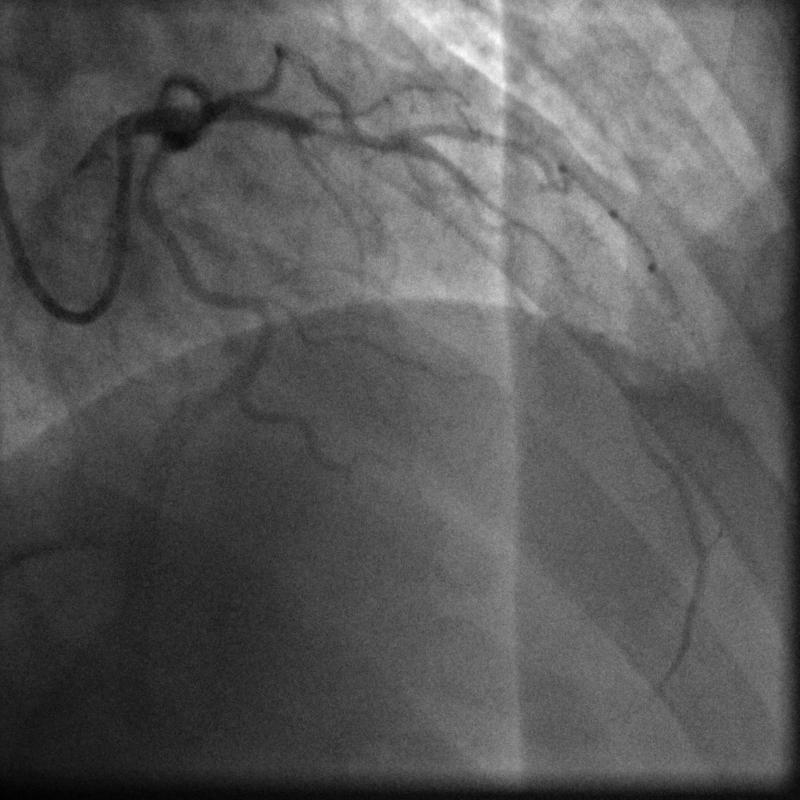Stenosis: (305, 121, 405, 152)
